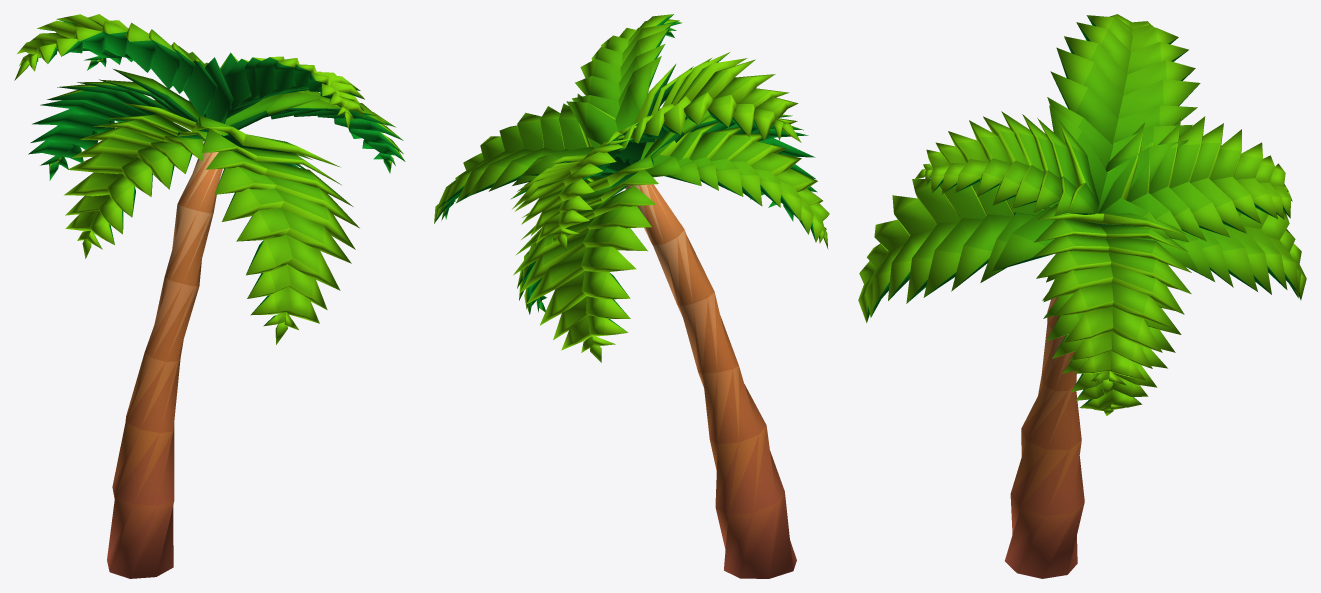
Rendered from GL-Palmtree-05.fbx.
The picture shows the model from 3 angles, left to right: view 1: azimuth 30°, elevation 25°; view 2: azimuth 150°, elevation 25°; view 3: azimuth 270°, elevation 25°; orthographic projection. The views are drawn at different scales.
Parts seen in each view (by area): view 1: GL-Palmtree-05; view 2: GL-Palmtree-05; view 3: GL-Palmtree-05.
Part boxes in pixels (x1,y1,x2,y2): GL-Palmtree-05: (14, 14, 405, 578); GL-Palmtree-05: (434, 14, 829, 578); GL-Palmtree-05: (858, 14, 1306, 578).
Size of the model in its own units: 2.48 by 3.35 by 2.55.
